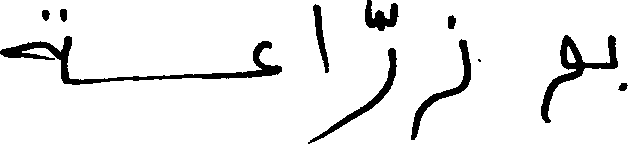ا: (309, 1, 331, 78)
ب: (605, 33, 627, 91)
ة: (0, 6, 70, 84)
ر: (330, 0, 397, 134)
ز: (410, 12, 471, 140)
ع: (250, 38, 281, 78)
و: (539, 33, 583, 123)
